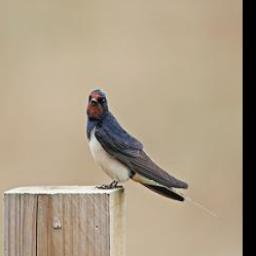Swallow: (84, 84, 221, 219)
